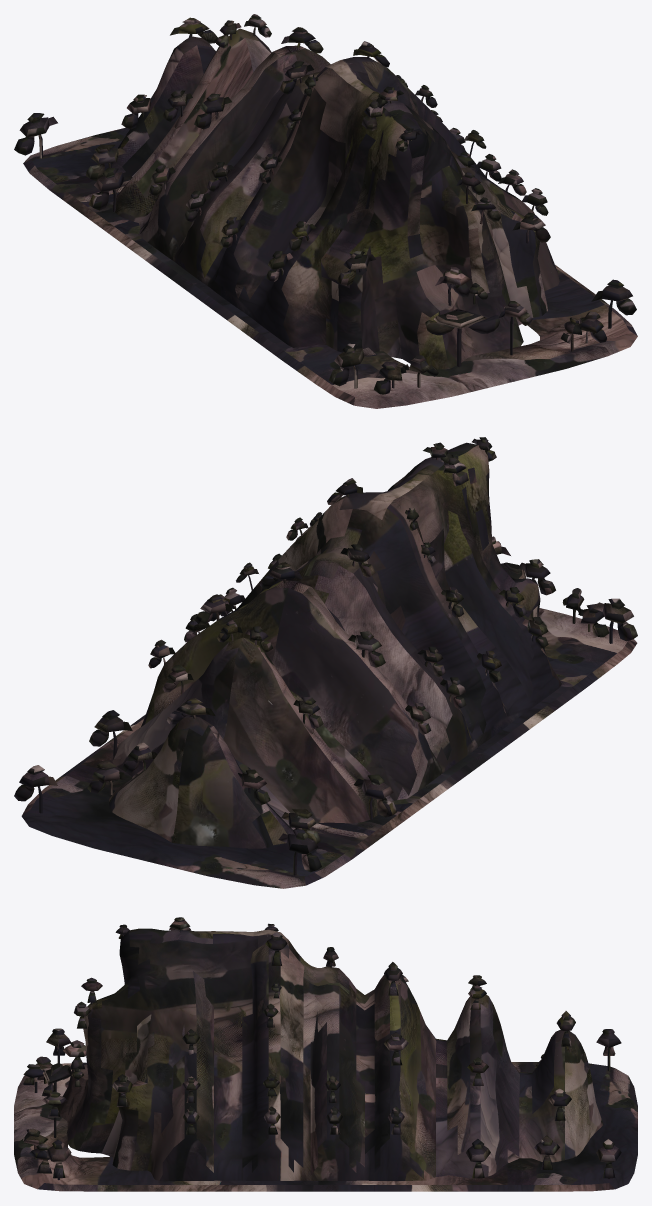
File: rocky+mountain+3d+model(1).fbx
3 views of the same model, one above another, from view 1: azimuth 30°, elevation 25°; view 2: azimuth 150°, elevation 25°; view 3: azimuth 270°, elevation 25° (orthographic). The views are drawn at different scales.
Visible parts, largest first — view 1: bb9cf71e_7b5f_4697_9c29_c25dd359ffd5; view 2: bb9cf71e_7b5f_4697_9c29_c25dd359ffd5; view 3: bb9cf71e_7b5f_4697_9c29_c25dd359ffd5.
Part boxes in pixels (bbox=[...]): bb9cf71e_7b5f_4697_9c29_c25dd359ffd5: bbox=[14, 14, 637, 408]; bb9cf71e_7b5f_4697_9c29_c25dd359ffd5: bbox=[14, 437, 637, 888]; bb9cf71e_7b5f_4697_9c29_c25dd359ffd5: bbox=[14, 917, 637, 1191].
Size of the model in its own units: 0.4907 by 0.3579 by 0.9995.
